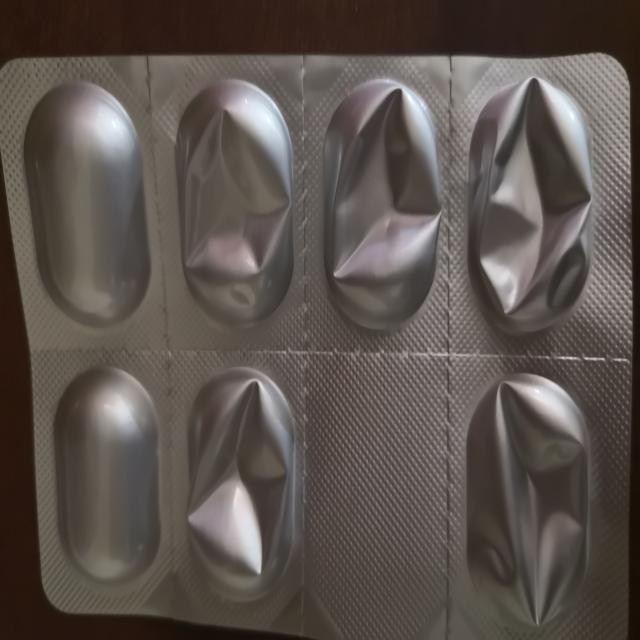Empty: (457, 369, 595, 628), (465, 73, 595, 339), (169, 75, 300, 330), (314, 79, 446, 332), (182, 362, 302, 606)
Pill: (19, 76, 152, 340), (51, 362, 156, 585)
